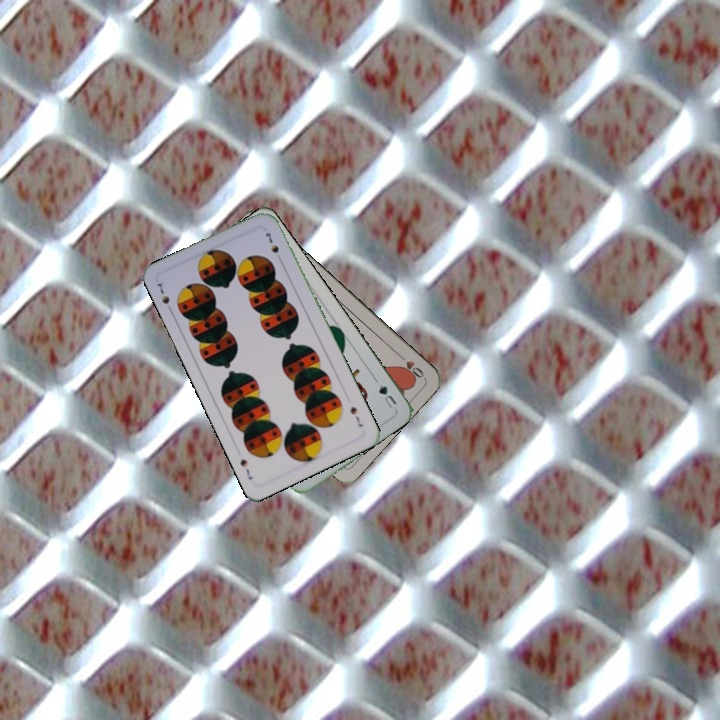GU: (374, 380, 399, 411)
HO: (393, 349, 426, 381)
S7: (153, 279, 176, 316), (346, 402, 365, 430)
